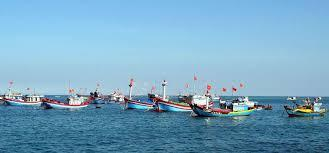Ship: (154, 81, 192, 112), (192, 103, 257, 118), (126, 79, 155, 111), (43, 96, 88, 110), (285, 103, 327, 118), (92, 92, 126, 105), (7, 97, 44, 107)
